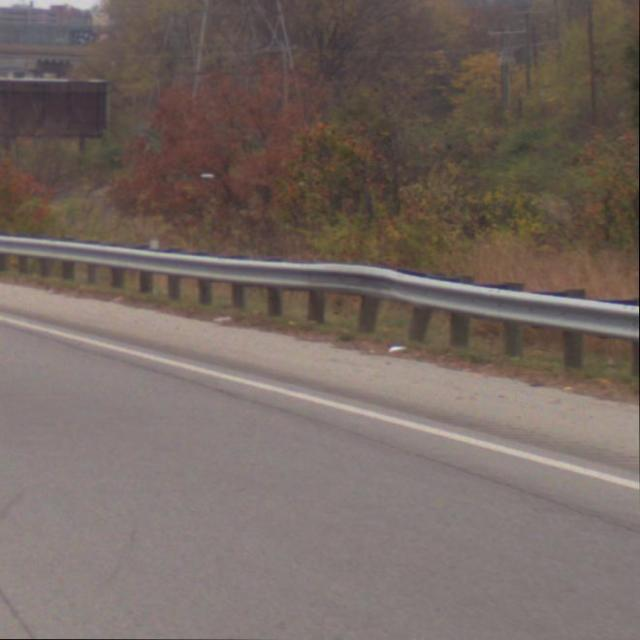Guard rail: (0, 226, 640, 389)
